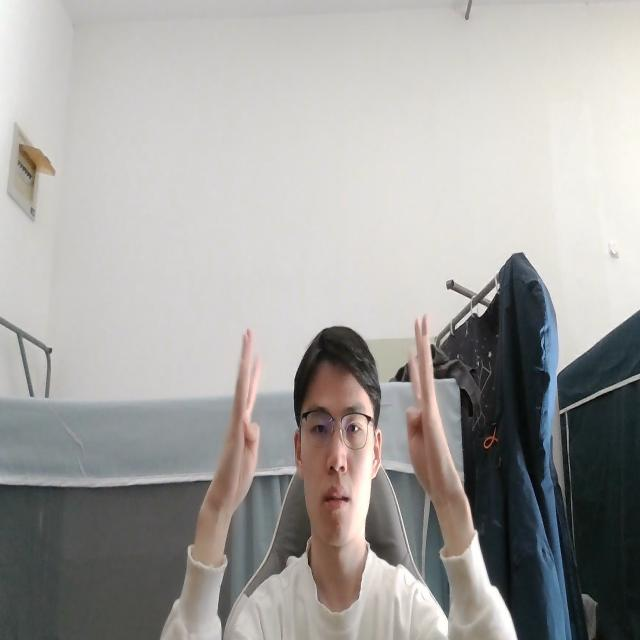four: (398, 303, 465, 520), (200, 318, 264, 532)
